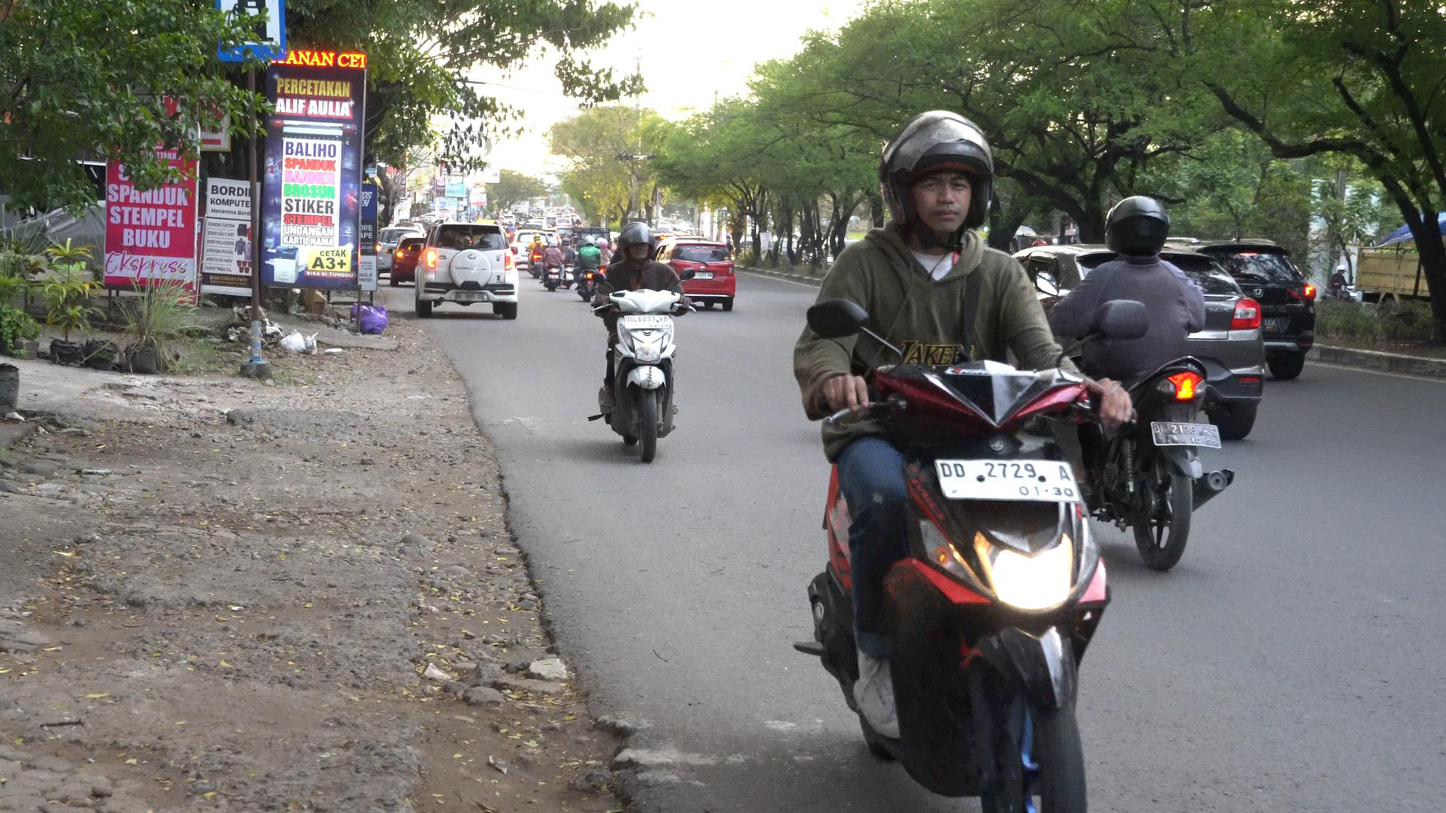number-plate: (934, 450, 1079, 507), (623, 314, 669, 330)
